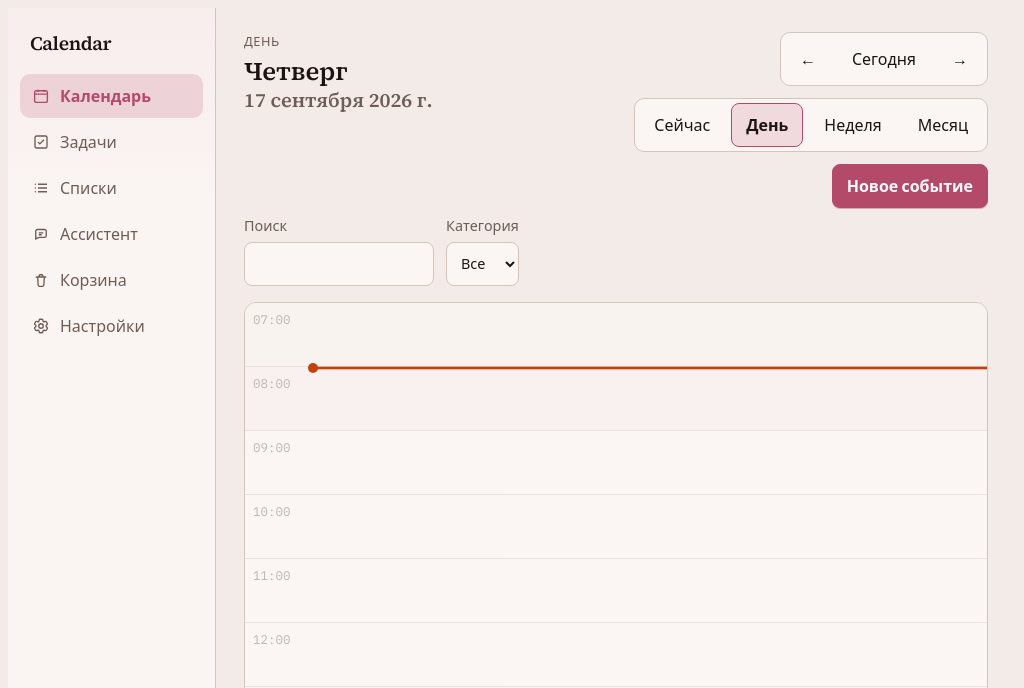
Test case: tasks section › shows composer and buckets, then lists a created undated task
(page scrolled)
Click the button "Задачи": (112, 142) x1=20 y1=120 x2=203 y2=164
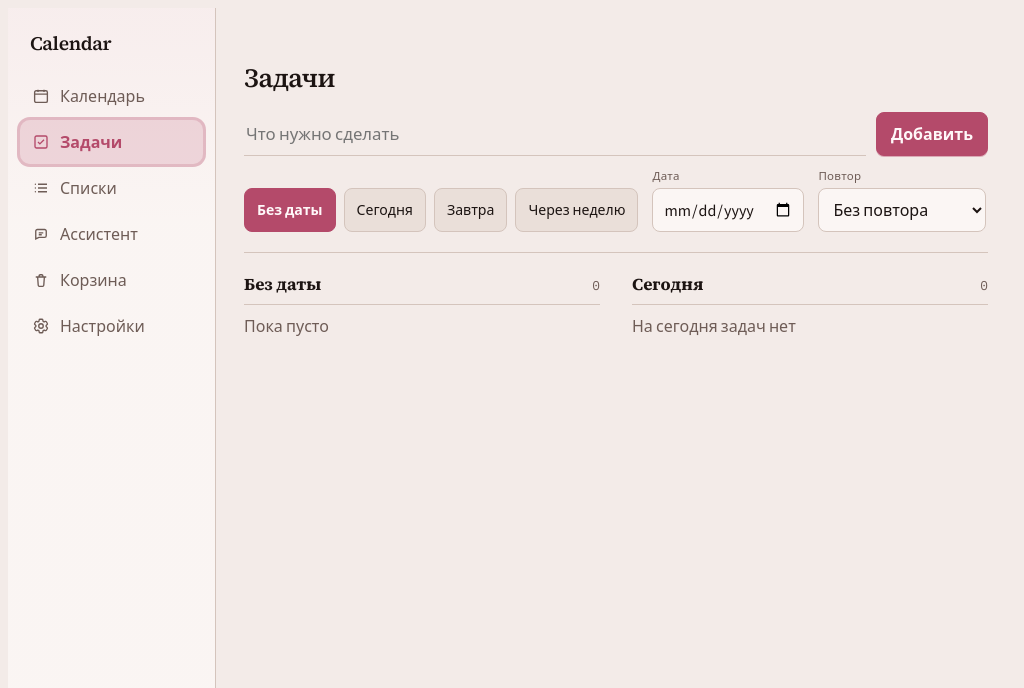
expect the element "Задачи" is shown: met, box x1=244 y1=52 x2=988 y2=365
expect the element "Без даты" is shown: met, box x1=244 y1=273 x2=600 y2=341
expect the element "Сегодня" is shown: met, box x1=632 y1=273 x2=988 y2=341
In the field named "Название": (555, 134) x1=244 y1=112 x2=866 y2=156, type "Купить молоко"
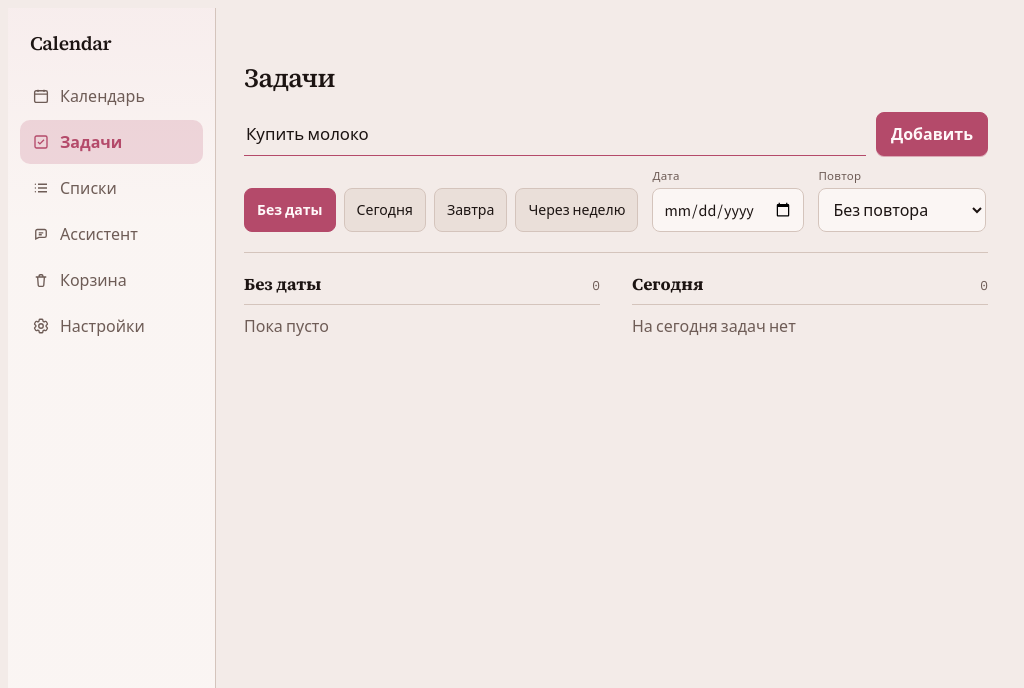
Click the button "Добавить": (932, 134) x1=876 y1=112 x2=988 y2=156
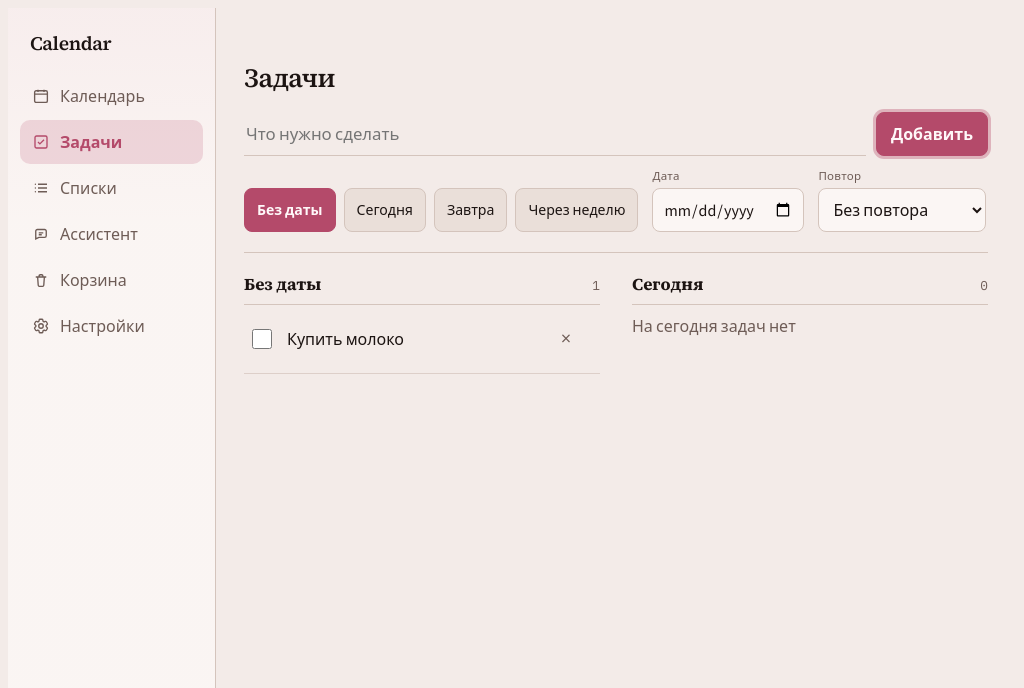
expect the text "Купить молоко" is shown: met, box x1=287 y1=328 x2=404 y2=350
